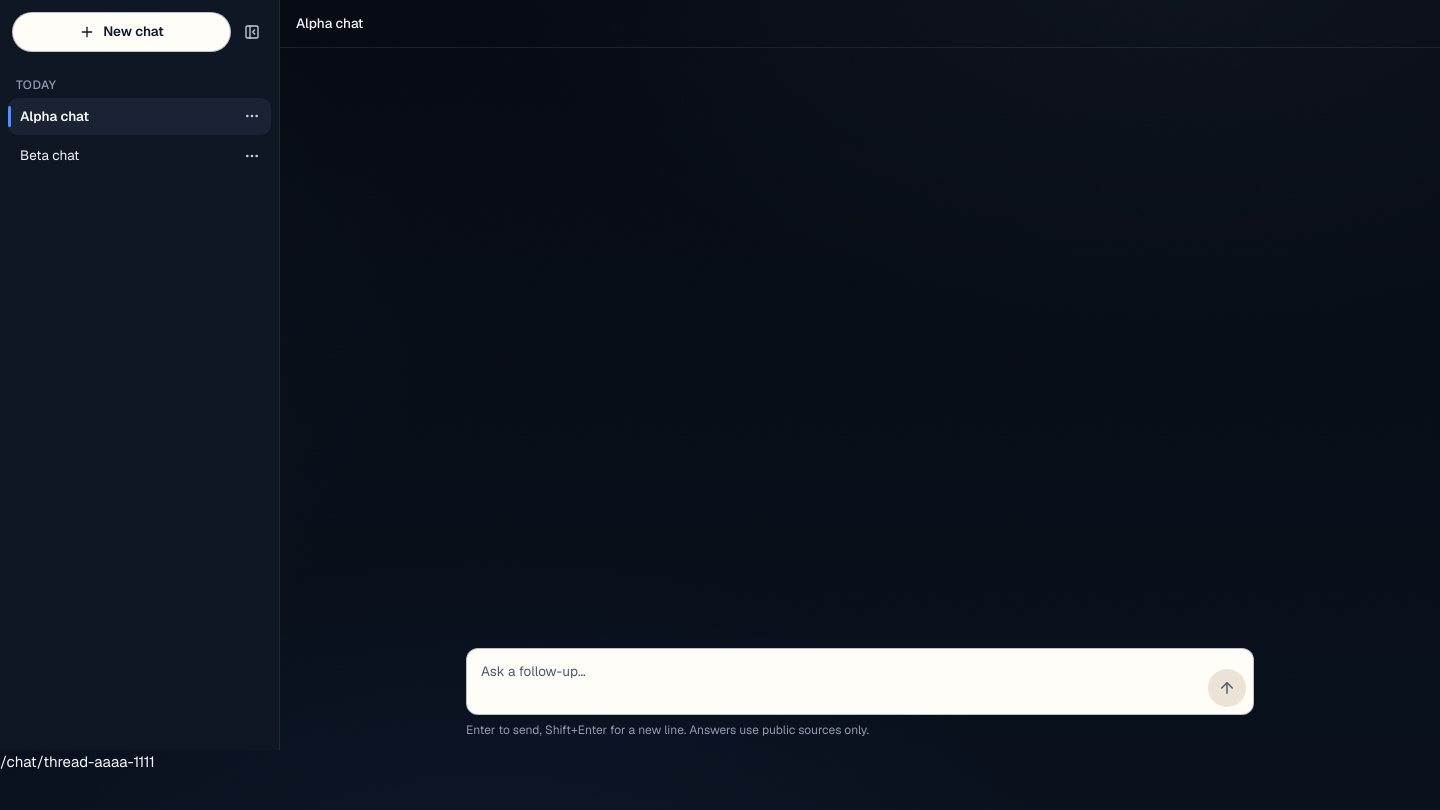
Test: a conversation end to end (demo data) › renames and deletes from the history menu
Click the button named "Actions for Alpha chat" at (252, 116), box left=237, top=101, right=267, bottom=131
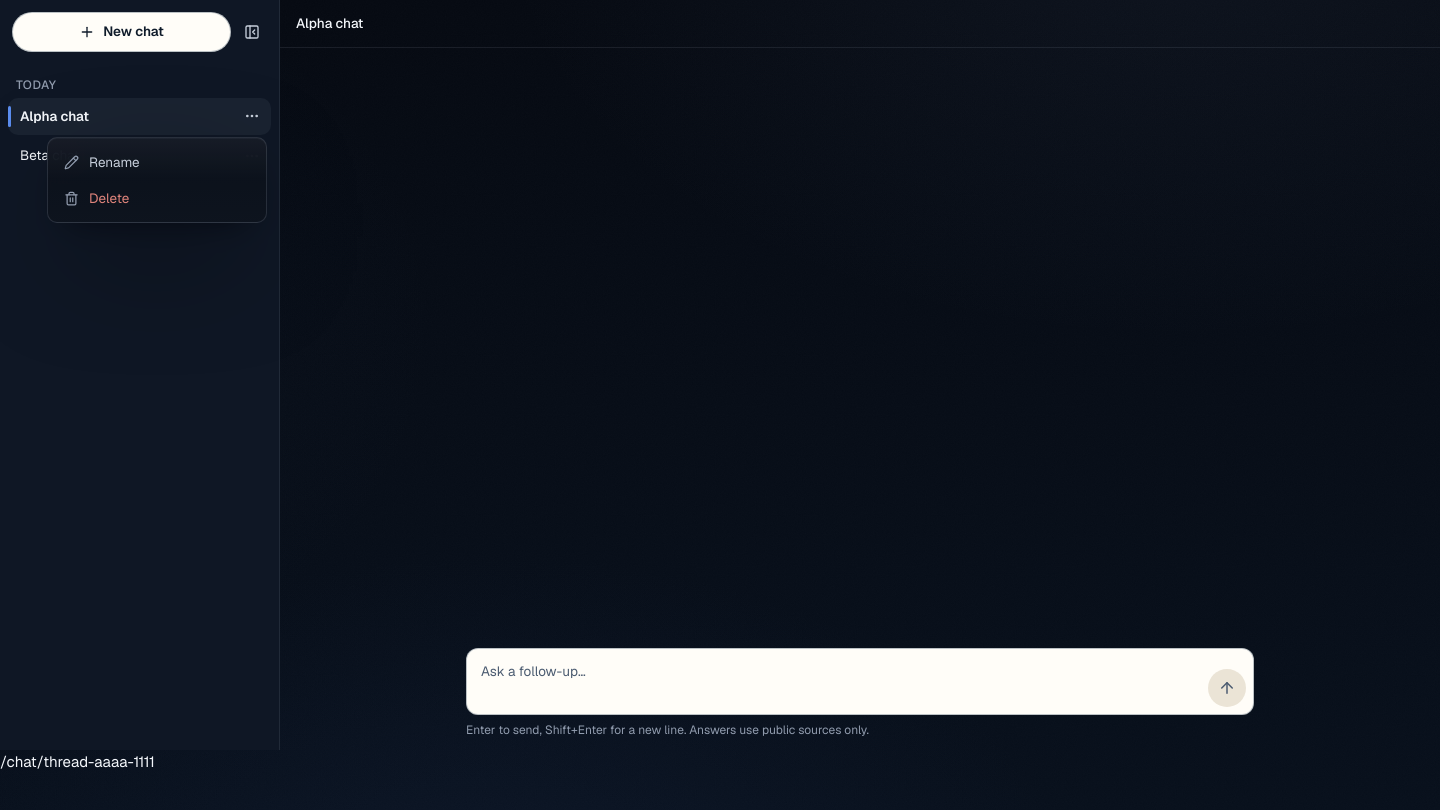
Click the menu item "Rename" at (157, 162), box left=54, top=144, right=260, bottom=180
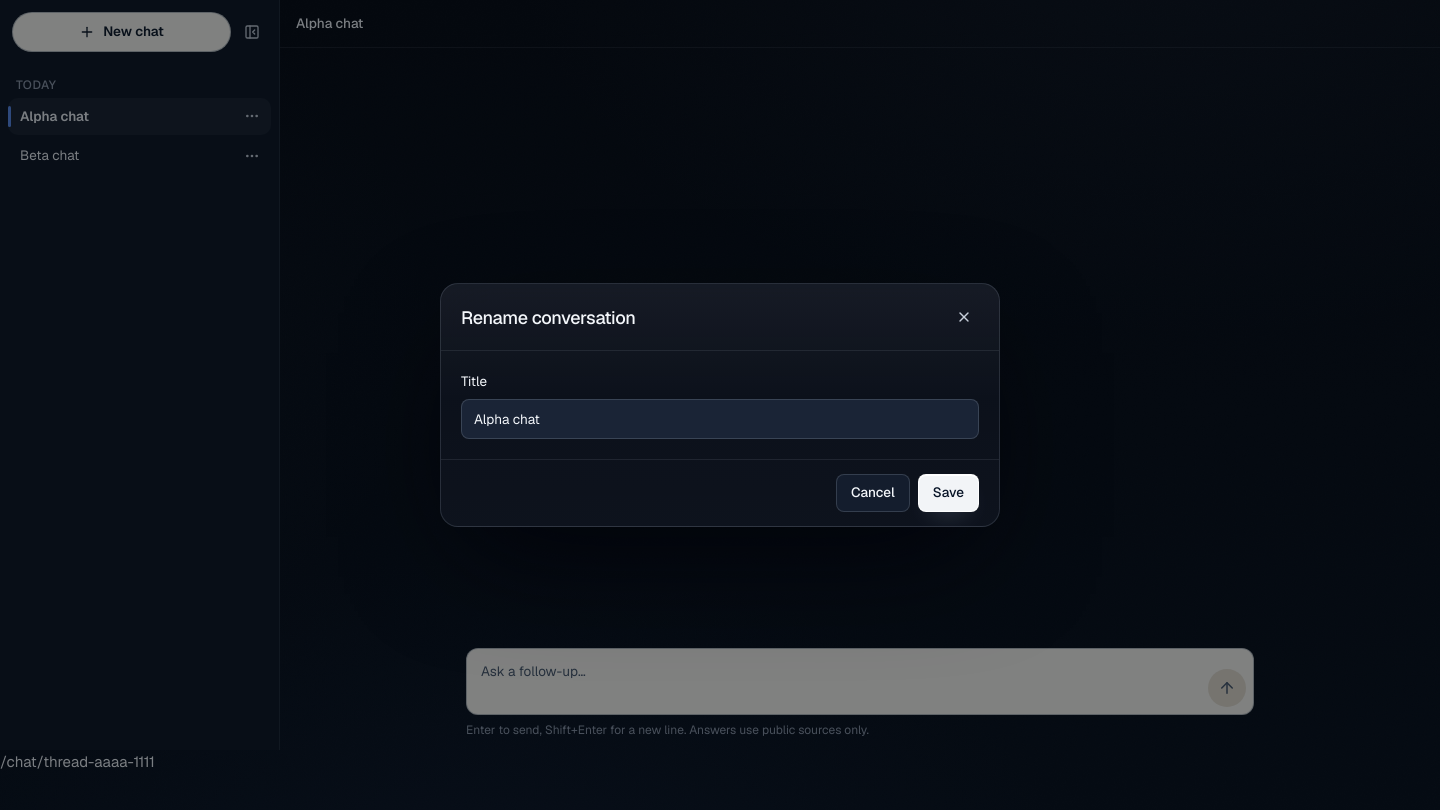
Replace the text in the field labelled "Title" with "Renamed chat" at (720, 419), box left=461, top=399, right=979, bottom=439
Click the button "Save" at (948, 493), box left=918, top=474, right=979, bottom=512
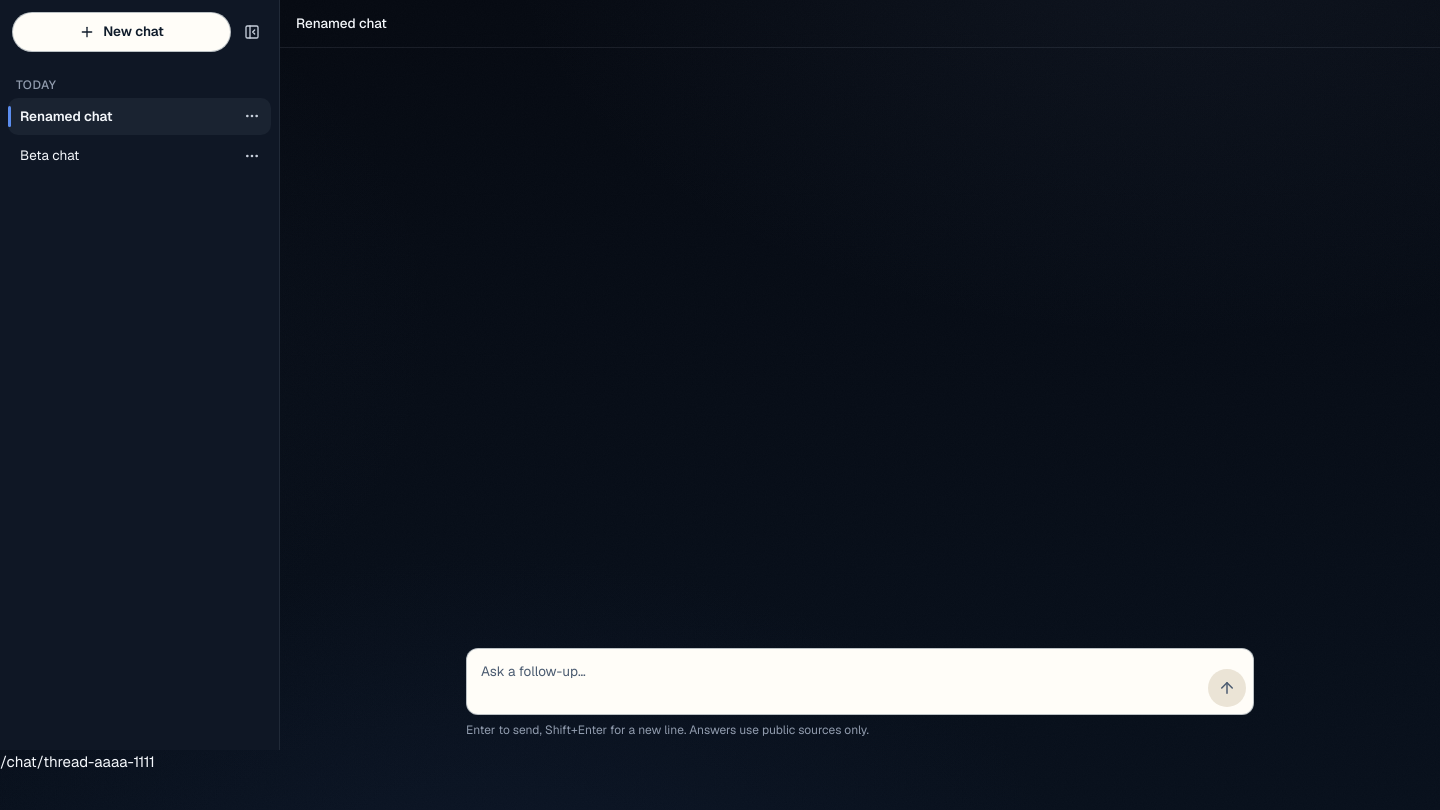
Check: the link "Renamed chat" is shown, box left=20, top=107, right=113, bottom=125
Click the button named "Actions for Beta chat" at (252, 156), box left=237, top=141, right=267, bottom=171
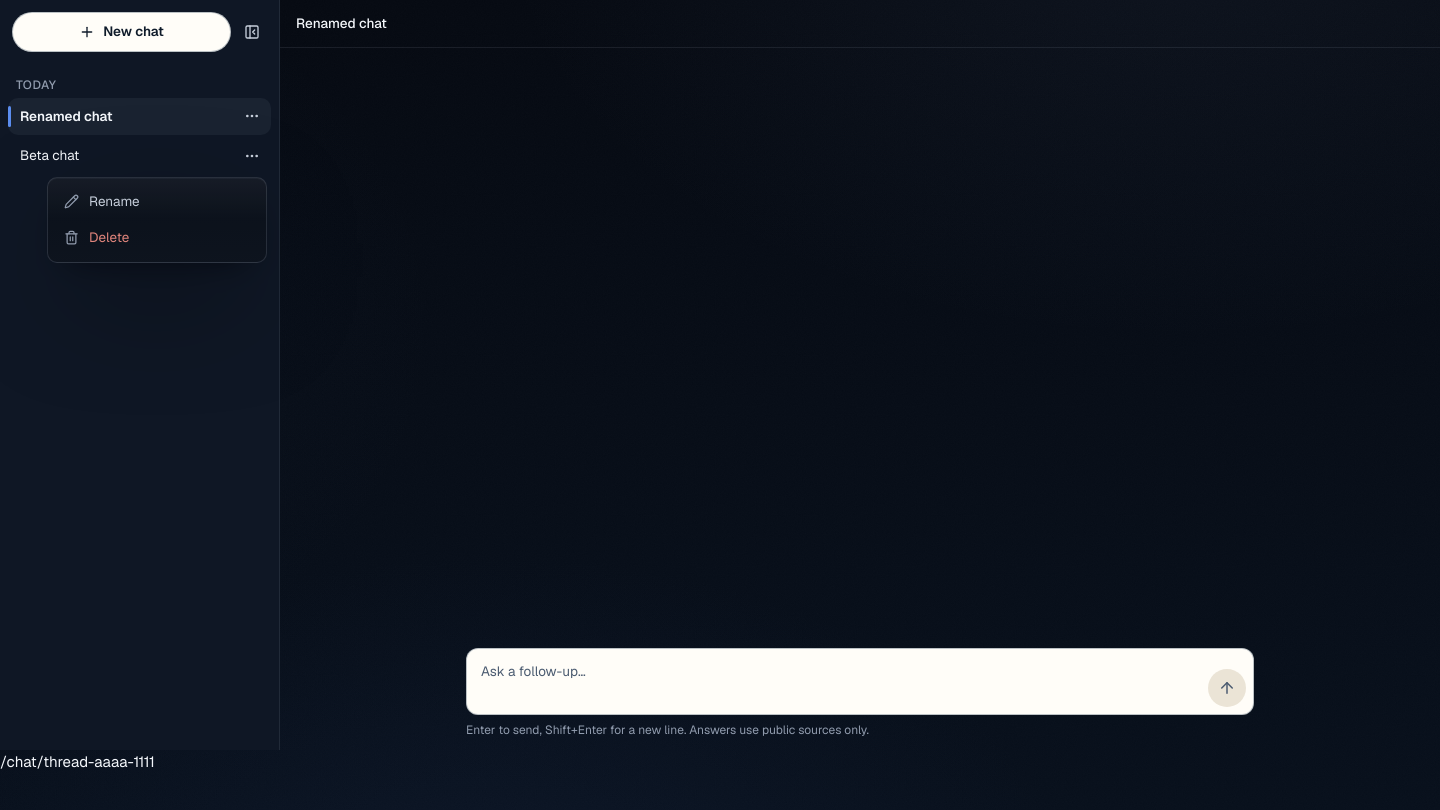
Click the menu item "Delete" at (157, 238), box left=54, top=220, right=260, bottom=256
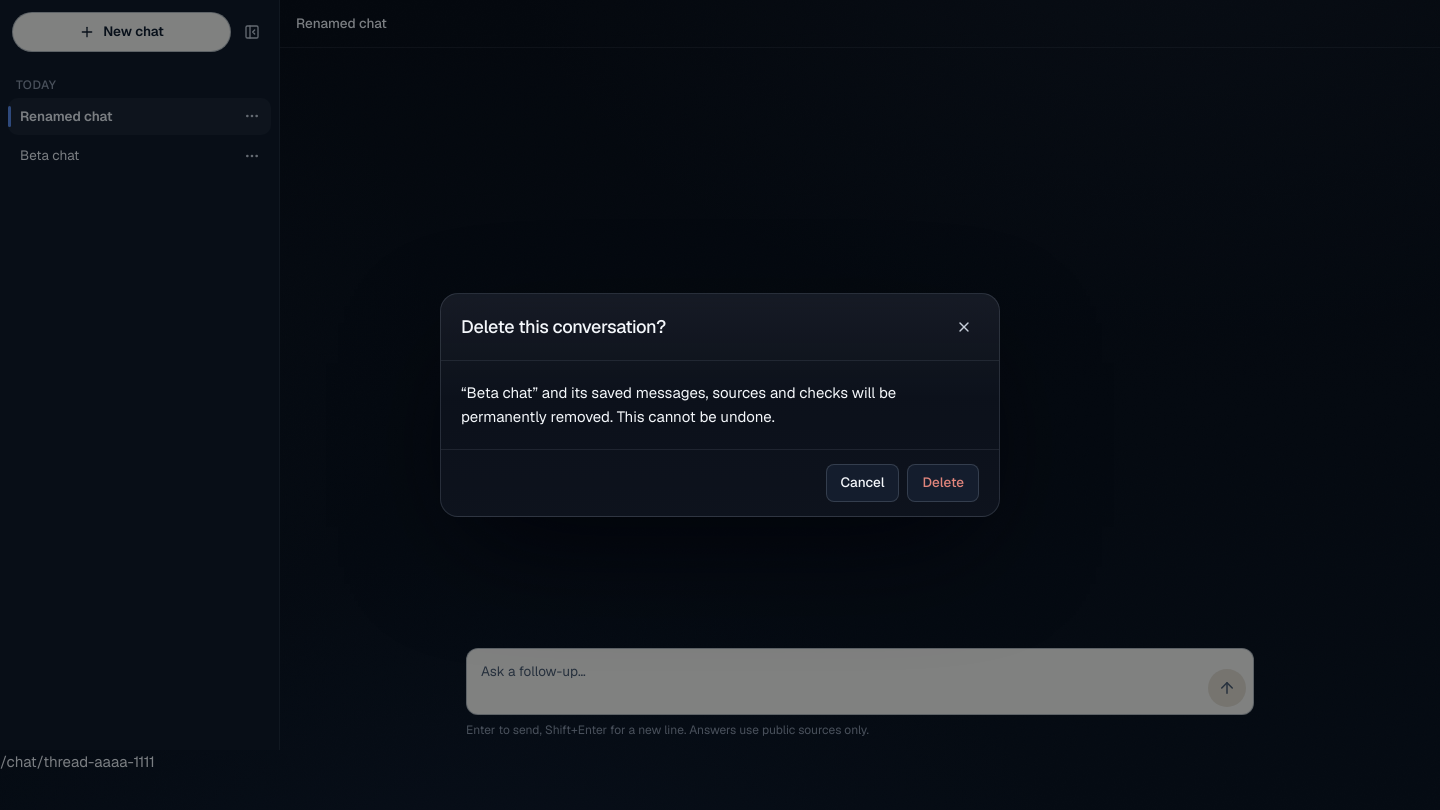
Check: the text "permanently removed" is shown, box left=461, top=383, right=896, bottom=426
Click the button "Delete" at (943, 483), box left=908, top=464, right=979, bottom=502
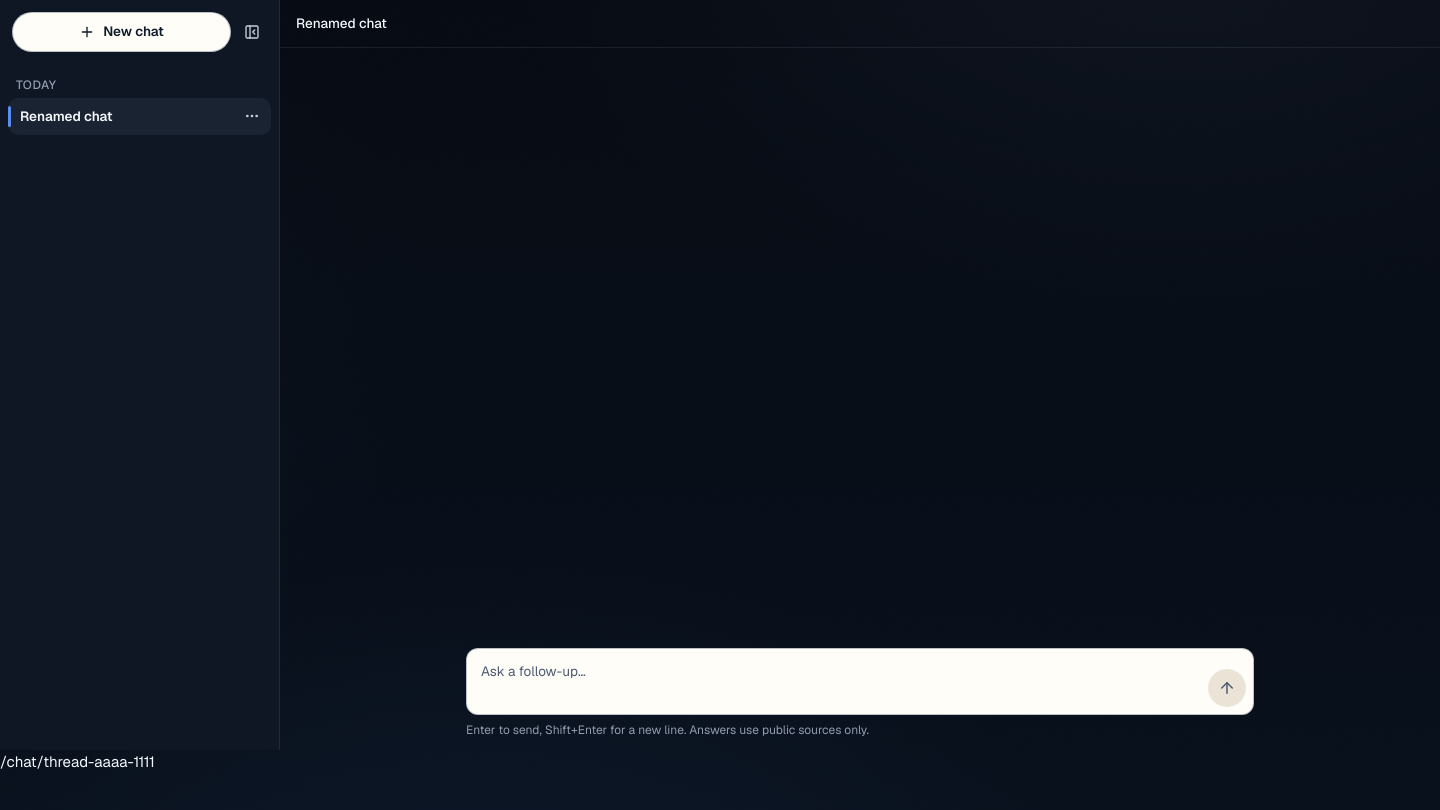
Check: the link "Beta chat" is gone
